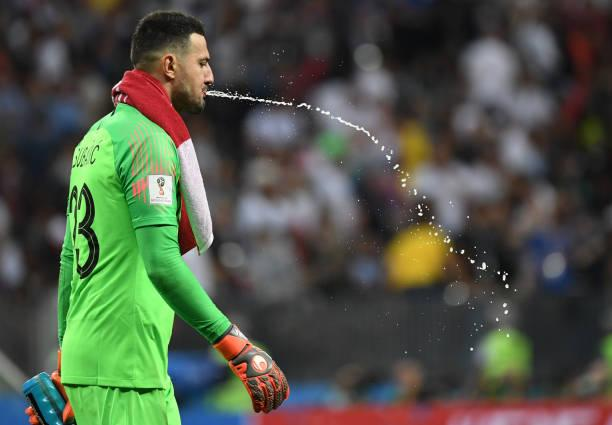Spitting: (84, 0, 277, 154)
